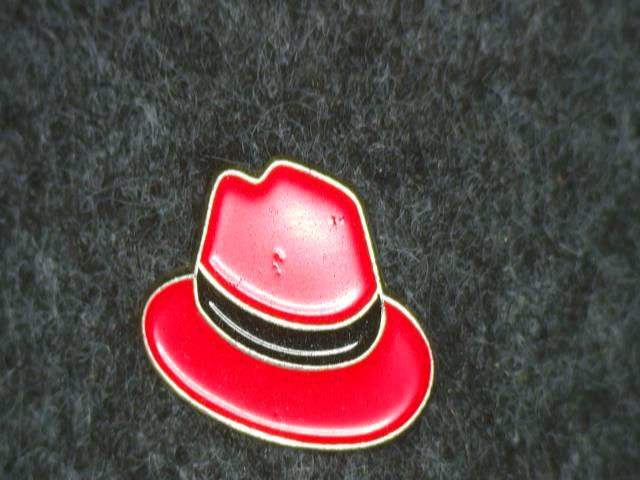Red-Hat: (120, 137, 465, 471)
